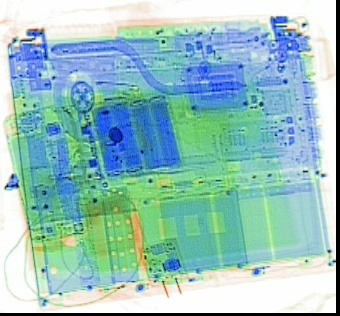powerbank: (70, 90, 185, 186)
